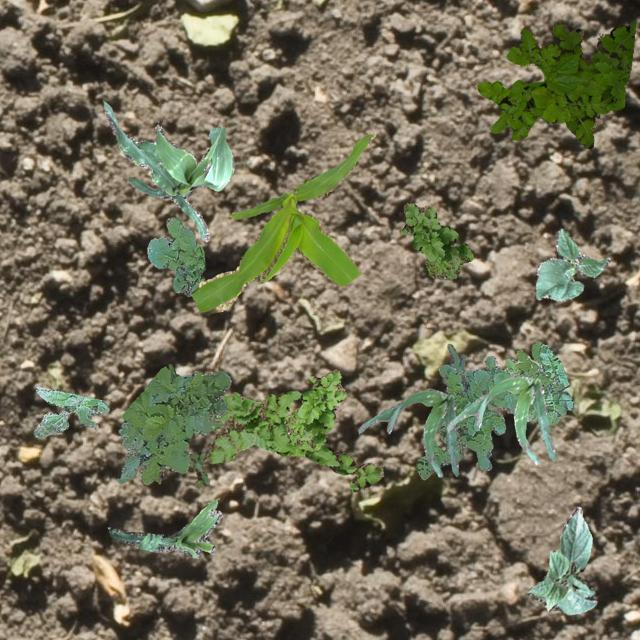crop: (190, 130, 374, 312), (102, 100, 234, 240), (446, 374, 554, 464), (357, 388, 458, 476), (526, 506, 596, 614), (108, 498, 220, 558), (534, 228, 608, 300), (434, 342, 464, 432)
weed: (416, 342, 572, 478), (476, 19, 634, 147), (206, 390, 382, 490), (116, 364, 230, 484), (398, 202, 472, 278), (284, 368, 344, 449), (146, 217, 204, 296), (32, 386, 108, 436), (154, 450, 208, 484)
